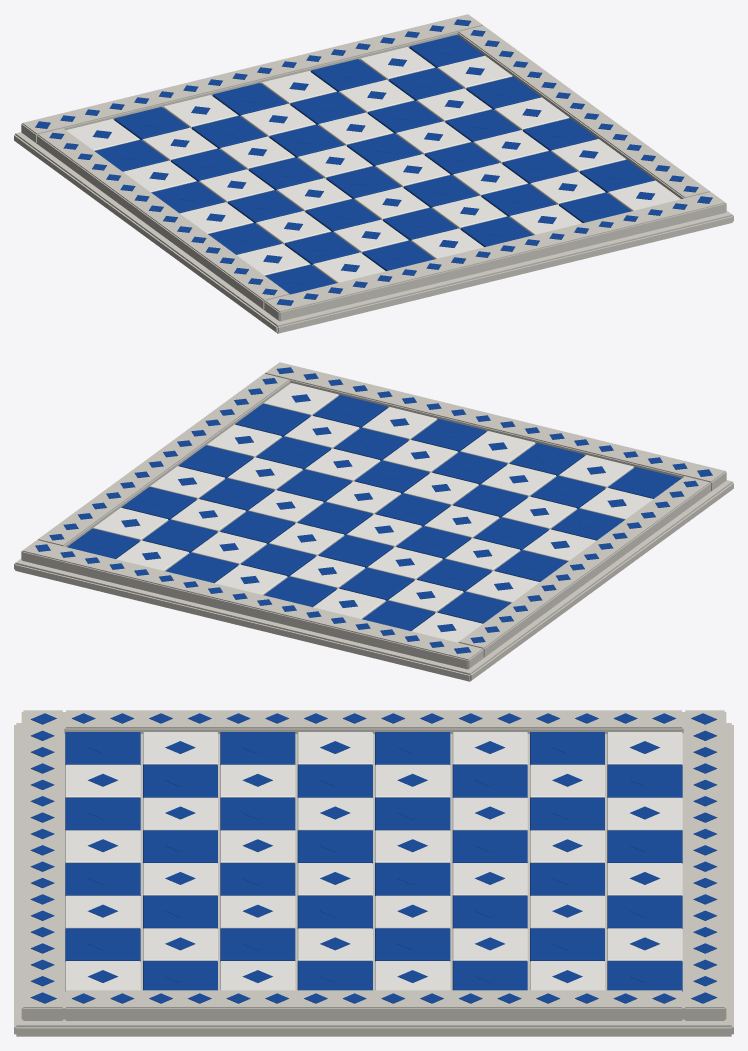
Rendered from Santorini_Tablero.fbx.
The picture shows the model from 3 angles, top to bottom: view 1: azimuth 30°, elevation 25°; view 2: azimuth 150°, elevation 25°; view 3: azimuth 270°, elevation 25°; orthographic projection. The views are drawn at different scales.
Visible parts, largest first — view 1: Santorini_Tablero; view 2: Santorini_Tablero; view 3: Santorini_Tablero.
Boxes of the visible parts, x1=… form: Santorini_Tablero: x1=14, y1=14, x2=733, y2=333; Santorini_Tablero: x1=14, y1=362, x2=733, y2=681; Santorini_Tablero: x1=14, y1=710, x2=733, y2=1036.
Bounding box in the file's own units: 9.3 × 0.955 × 9.3.
